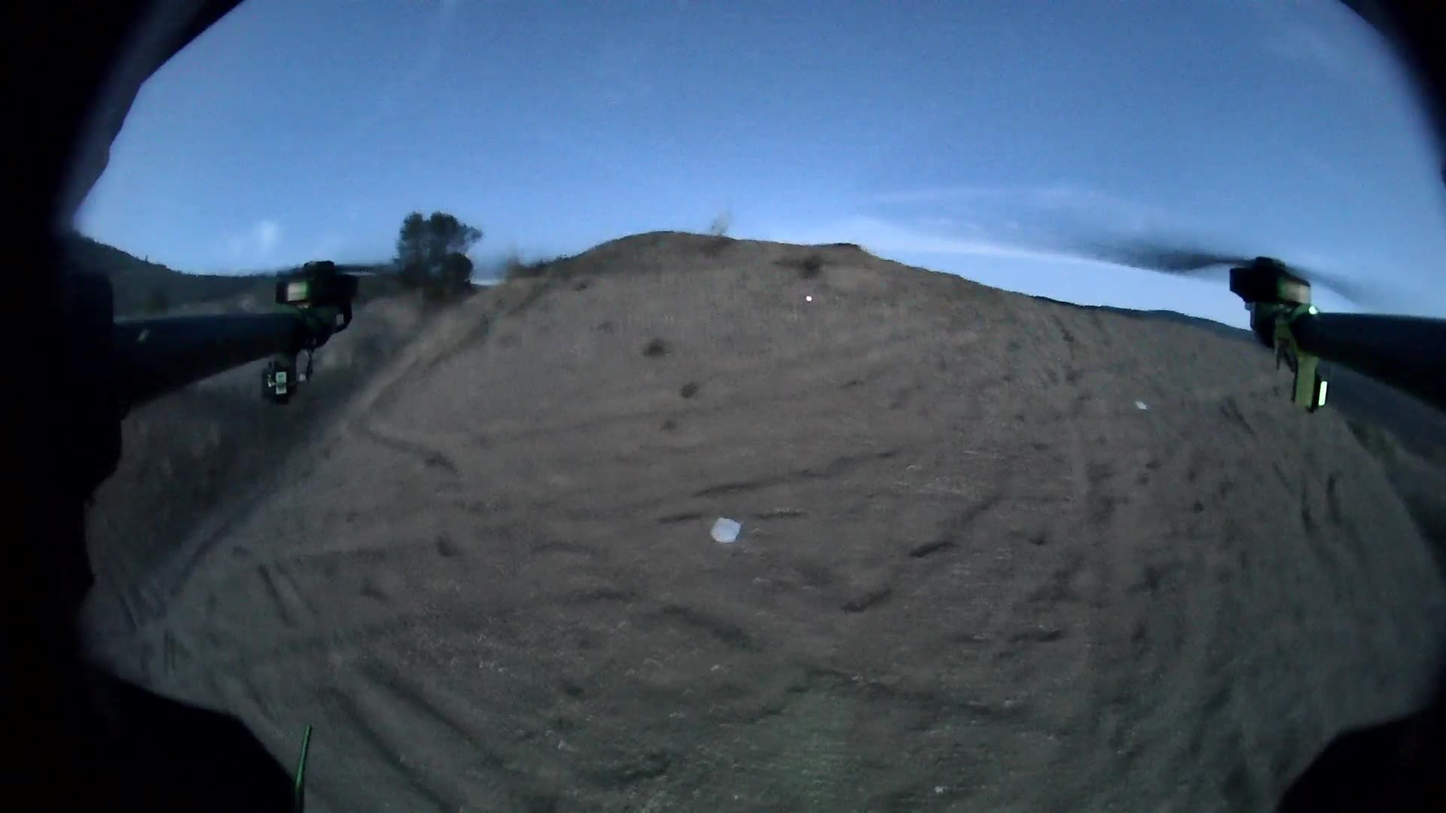Target: (709, 516, 741, 544)
